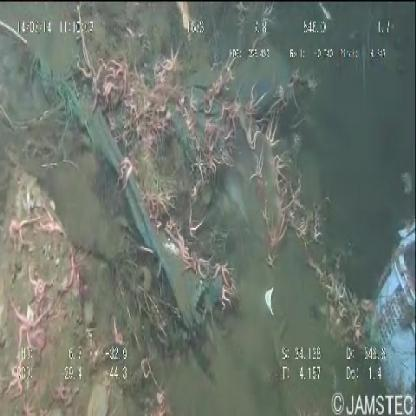Rác: (365, 206, 416, 416)
